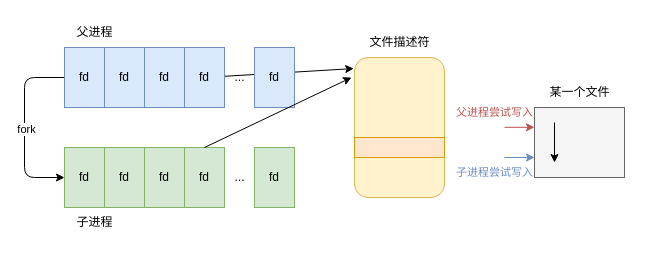
This 662x254 diagram has some shape labels left out. Each missing label, with the centre of its shape:
偏移量 offset: (x=399, y=147)
偏移量共享增加: (x=579, y=142)
